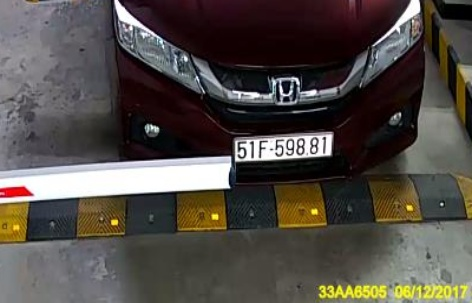plate: (231, 133, 336, 161)
